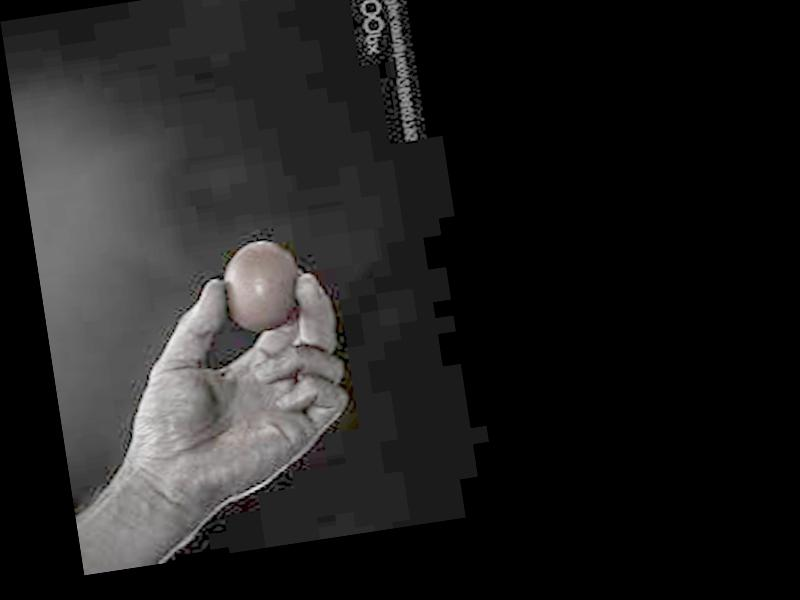Eggs: (216, 237, 304, 339)
